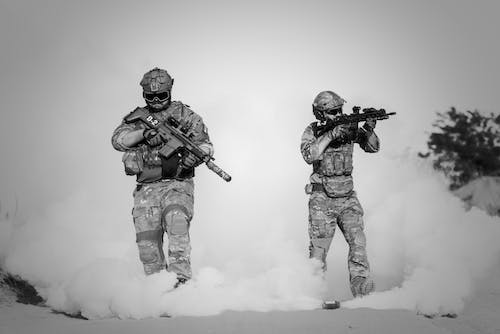gun: (124, 106, 234, 184), (311, 103, 398, 144)
